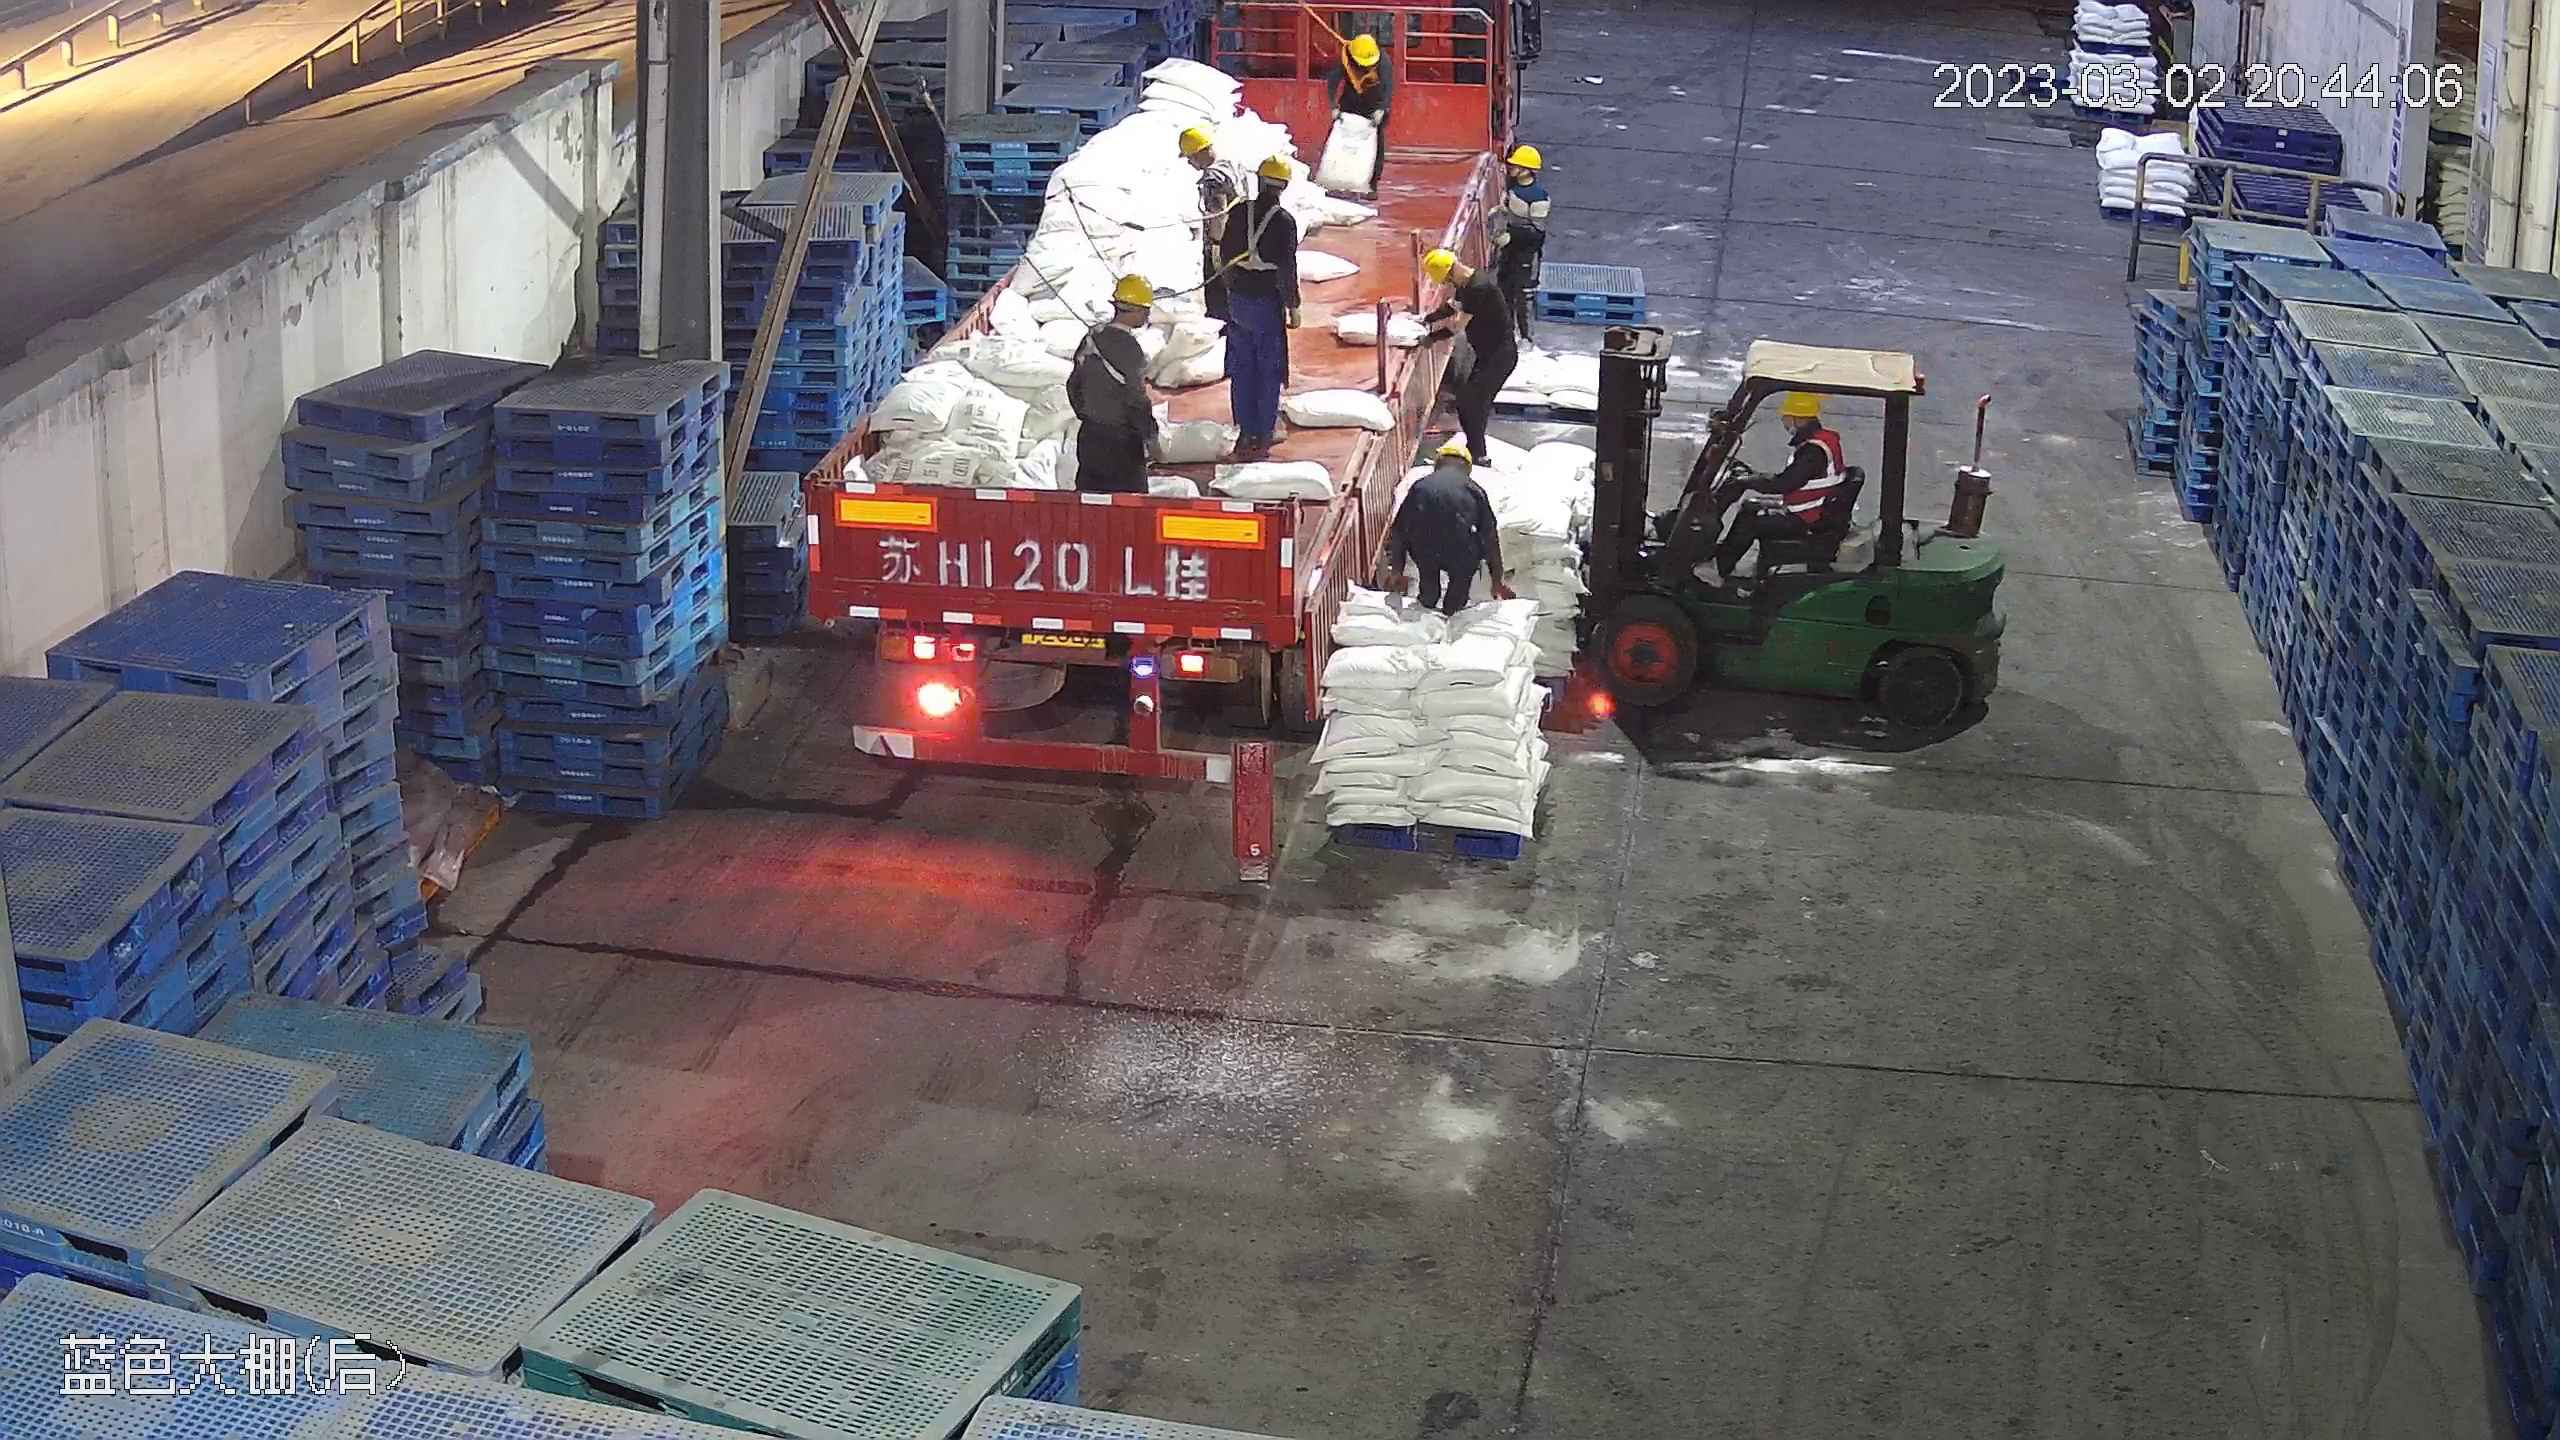belt: (1224, 196, 1285, 277), (1078, 306, 1144, 379), (1336, 34, 1378, 95), (1214, 157, 1251, 203)
head: (1710, 384, 1848, 581), (1074, 269, 1158, 370), (1225, 152, 1298, 242), (1419, 245, 1496, 325), (1773, 388, 1844, 475), (1409, 444, 1494, 507), (1177, 123, 1240, 200), (1485, 143, 1545, 214), (1327, 30, 1383, 81)
helmet: (1424, 438, 1475, 476), (1106, 269, 1156, 306), (1774, 389, 1820, 421), (1420, 246, 1458, 277), (1255, 152, 1295, 180), (1176, 123, 1214, 153), (1508, 143, 1540, 170), (1350, 32, 1378, 62)
people: (1204, 145, 1302, 457), (1704, 386, 1851, 587), (1063, 271, 1171, 496), (1412, 247, 1514, 465), (1382, 436, 1502, 617), (1472, 141, 1552, 357), (1315, 28, 1393, 193)
truck: (808, 9, 1461, 780)
